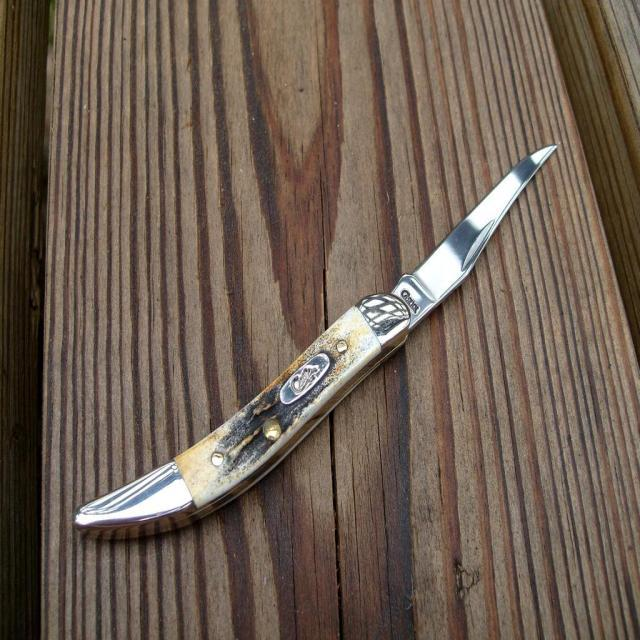Knife: (76, 146, 555, 536)
